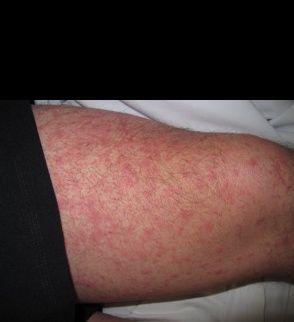SJS-TEN: (39, 82, 294, 302)
